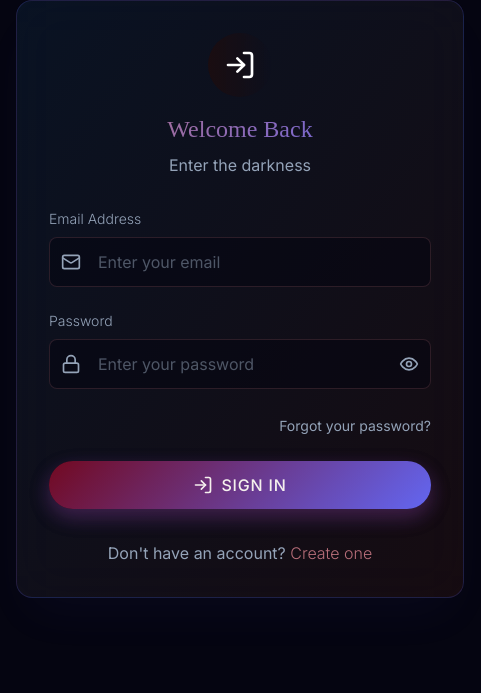
Scenario: LoginForm › displays error message on failed login
Type "test@example.com" into the field with placeholder "Enter your email" at [240, 262], box [49,237,431,287]
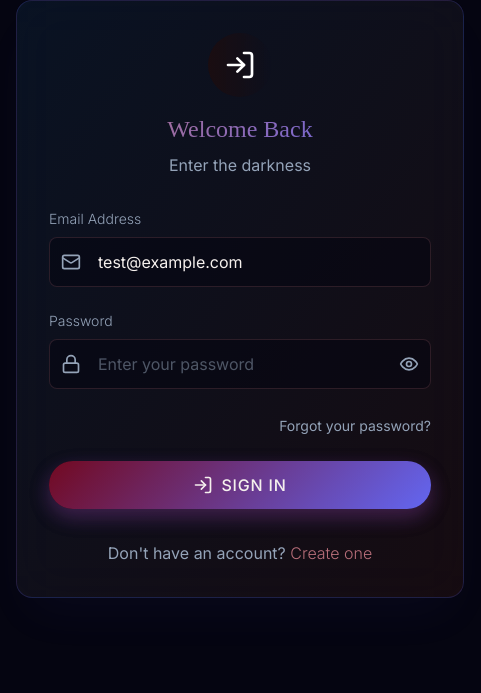
Type "wrongpassword" into the password field with placeholder "Enter your password" at [240, 364], box [49,339,431,389]
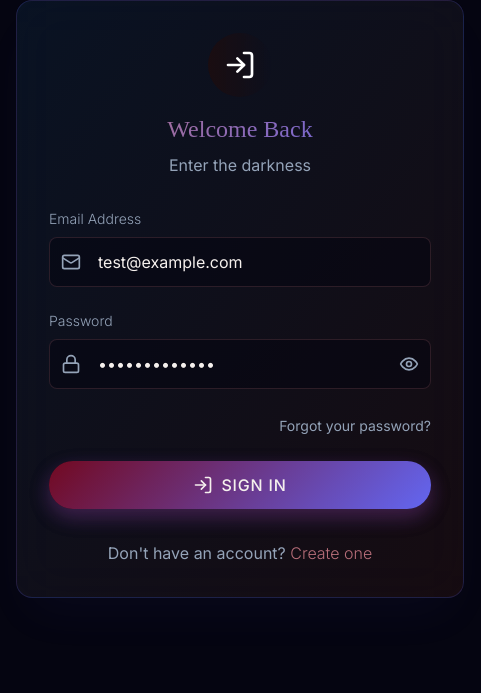
Click the button "Sign In" at [240, 485], box [49,461,431,509]
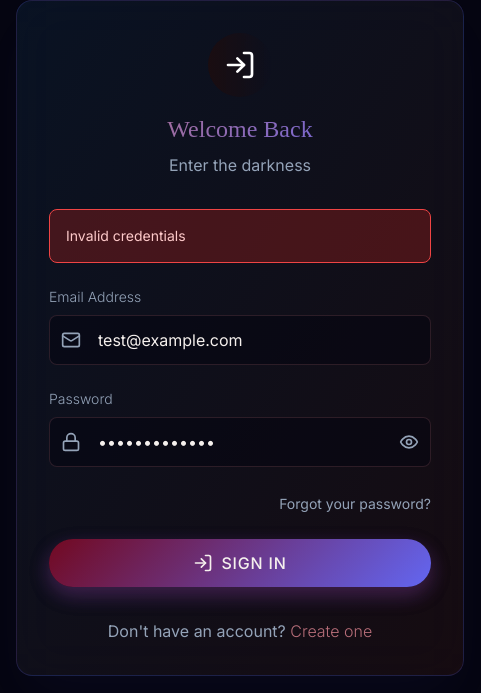
Expected: the text "Invalid credentials" is shown, [49,209,431,263]
